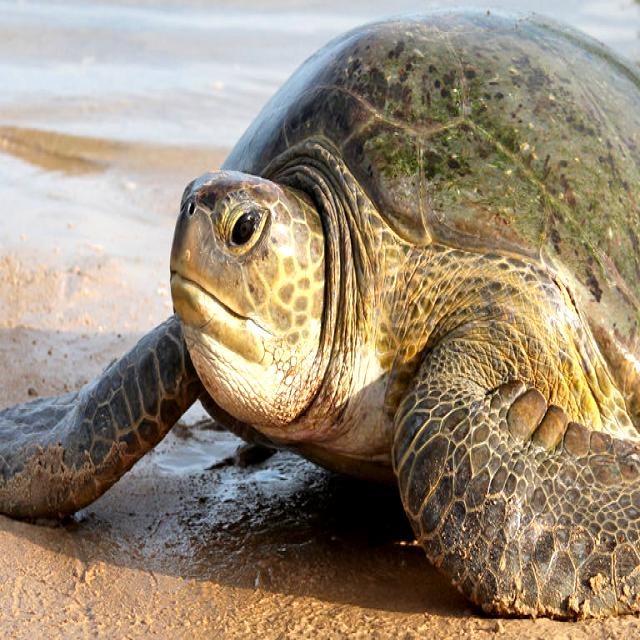Sea turtle: (11, 14, 640, 640)
